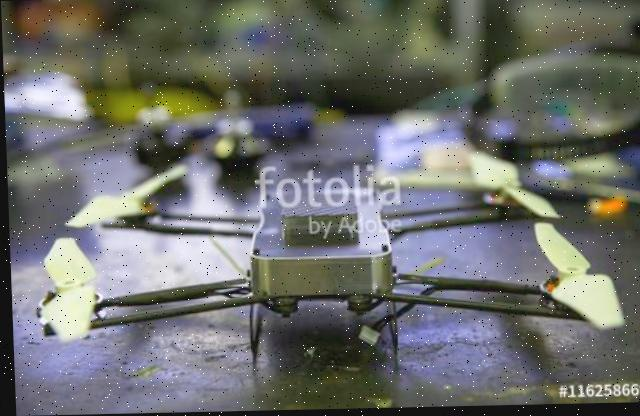drone: (1, 9, 640, 416)
